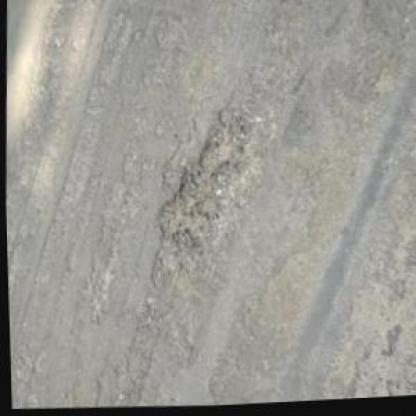pothole: (147, 106, 255, 256), (84, 248, 116, 323)
